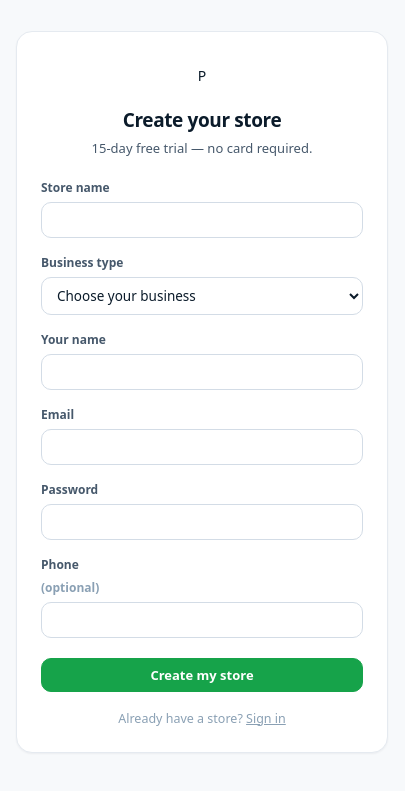
Test: RegisterPage › surfaces a duplicate email as a friendly error
Type "Nile Grocers" into the field labelled "Store name". click: coordinates (202, 220)
box: [41, 202, 363, 238]
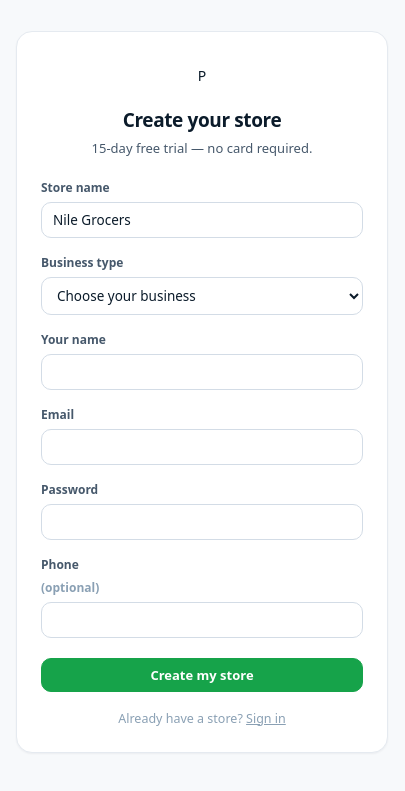
Select "Grocery" in the dropdown labelled "Business type". click: coordinates (202, 296)
box: [41, 277, 363, 315]
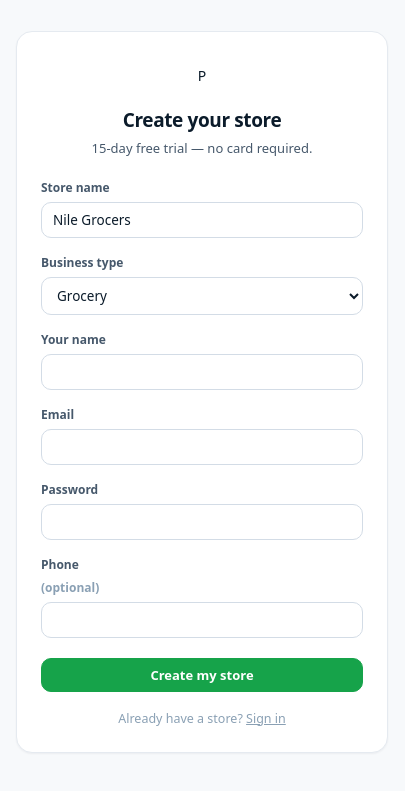
Type "Nadia" into the field labelled "Your name". click: coordinates (202, 372)
box: [41, 354, 363, 390]
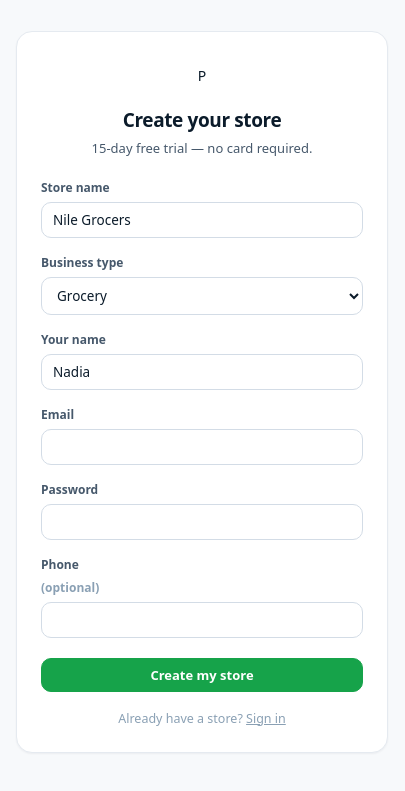
Type "nadia@nile.example" into the field labelled "Email". click: coordinates (202, 447)
box: [41, 429, 363, 465]
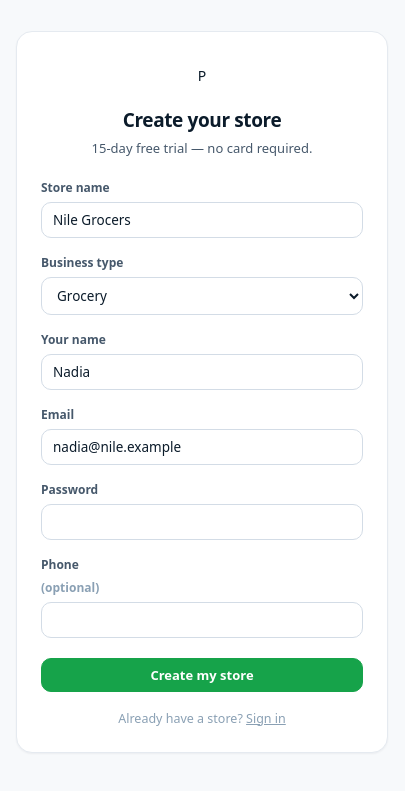
Type "supersecret1" into the password field labelled "Password". click: coordinates (202, 522)
box: [41, 504, 363, 540]
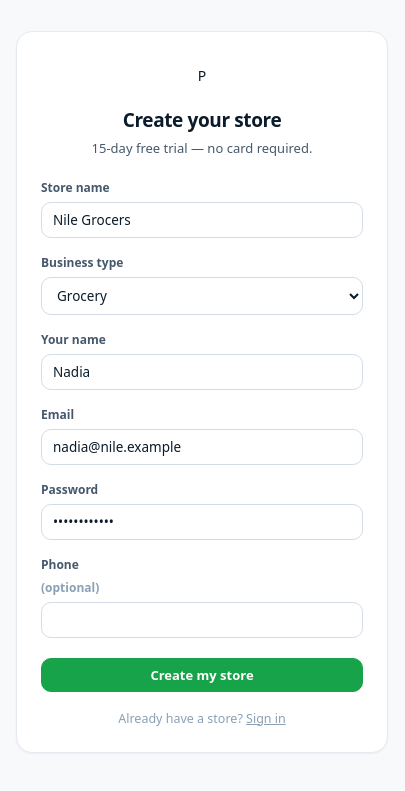
Click the button "Create my store". click: coordinates (202, 675)
box: [41, 658, 363, 692]
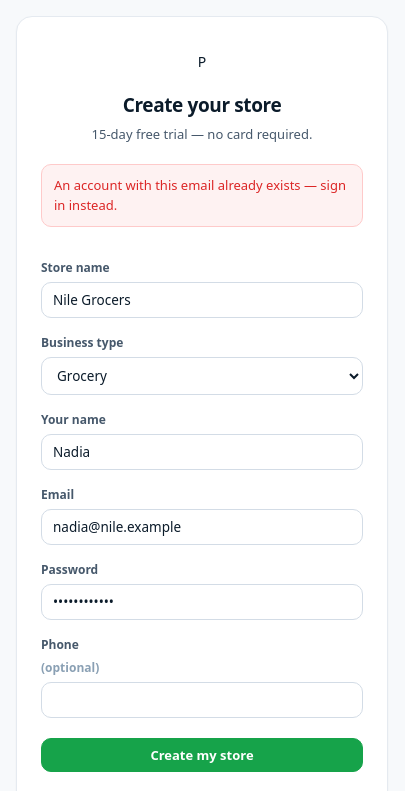
expect the button "Create my store" is enabled: met, box [41, 738, 363, 772]
expect the message shows "already exists": met, box [54, 176, 346, 214]
expect the message shows "sign in instead": met, box [54, 176, 346, 214]
